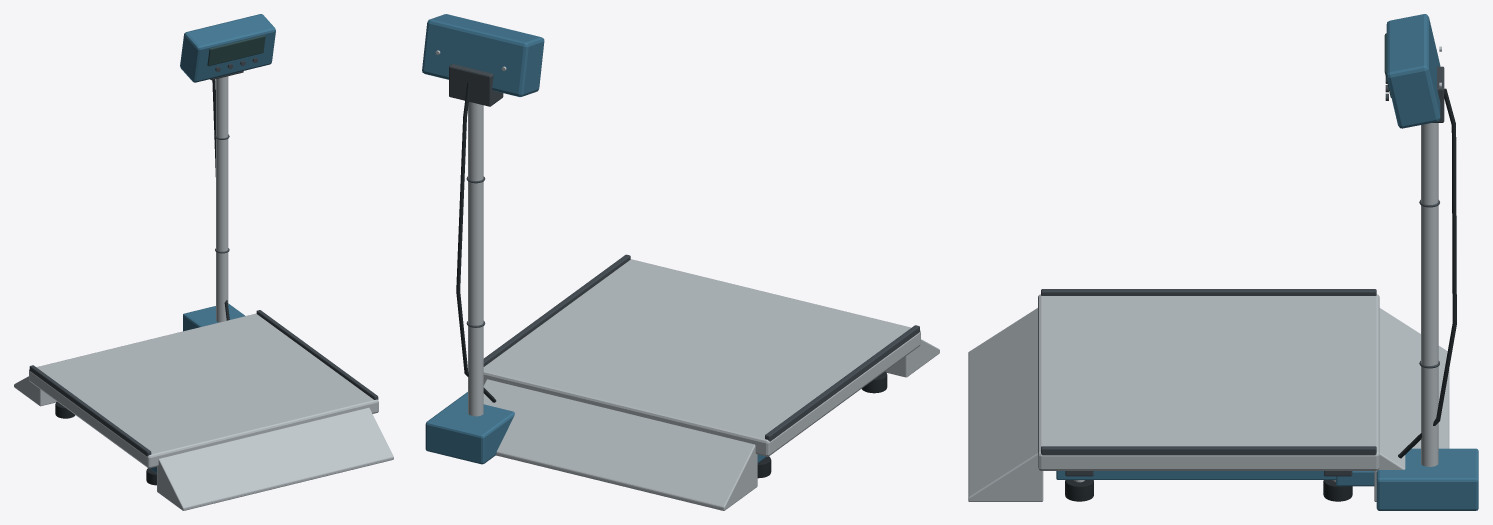
File: city-low-platform-scale.glb
The picture shows the model from 3 angles, left to right: view 1: azimuth 30°, elevation 25°; view 2: azimuth 150°, elevation 25°; view 3: azimuth 270°, elevation 25°; orthographic projection. The views are drawn at different scales.
Visible parts, largest first — view 1: Assembly | Satin galvanized support metal, Assembly | Industrial muted blue finish, Assembly | Dark steel fittings, Assembly | Blank inactive indicator panel, Assembly | Dark wheel and foot rubber; view 2: Assembly | Satin galvanized support metal, Assembly | Industrial muted blue finish, Assembly | Dark steel fittings, Assembly | Dark wheel and foot rubber; view 3: Assembly | Satin galvanized support metal, Assembly | Industrial muted blue finish, Assembly | Dark steel fittings, Assembly | Dark wheel and foot rubber.
Boxes of the visible parts, x1=… form: Assembly | Satin galvanized support metal: x1=14, y1=76, x2=393, y2=510; Assembly | Industrial muted blue finish: x1=150, y1=14, x2=275, y2=473; Assembly | Dark steel fittings: x1=29, y1=57, x2=378, y2=456; Assembly | Blank inactive indicator panel: x1=207, y1=35, x2=265, y2=66; Assembly | Dark wheel and foot rubber: x1=55, y1=79, x2=229, y2=485; Assembly | Satin galvanized support metal: x1=435, y1=50, x2=939, y2=510; Assembly | Industrial muted blue finish: x1=422, y1=14, x2=766, y2=464; Assembly | Dark steel fittings: x1=449, y1=64, x2=919, y2=441; Assembly | Dark wheel and foot rubber: x1=456, y1=82, x2=887, y2=478; Assembly | Satin galvanized support metal: x1=968, y1=46, x2=1449, y2=501; Assembly | Industrial muted blue finish: x1=1056, y1=14, x2=1478, y2=510; Assembly | Dark steel fittings: x1=1041, y1=66, x2=1444, y2=476; Assembly | Dark wheel and foot rubber: x1=1065, y1=88, x2=1456, y2=501.
Size of the model in its own units: 0.989 by 1.21 by 1.22.
